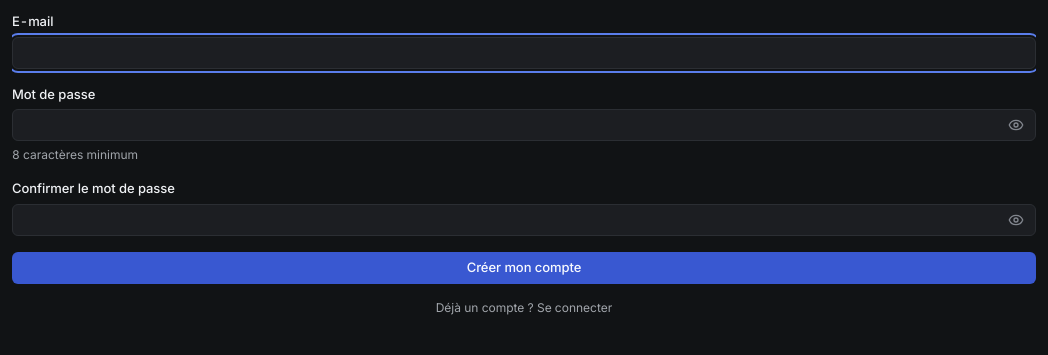
Test case: <SignupForm> › blocks submission when the passwords do not match
Type "new@example.com" into the field labelled "E-mail" at point(524, 53), box [12, 37, 1036, 69]
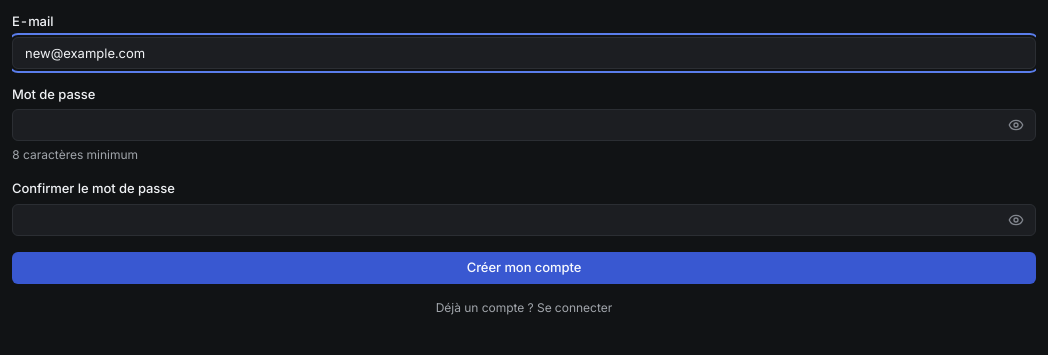
Type "hunter2secret" into the password field labelled "Mot de passe" at point(524, 125), box [12, 109, 1036, 141]
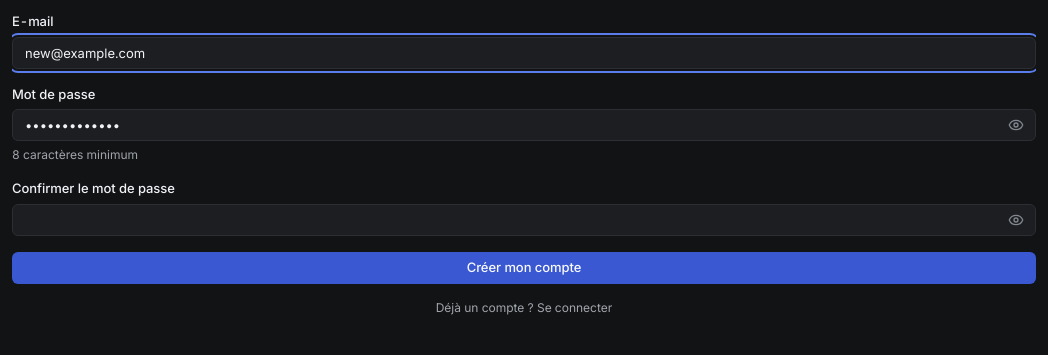
Type "different-one" into the password field labelled "Confirmer le mot de passe" at point(524, 220), box [12, 204, 1036, 236]
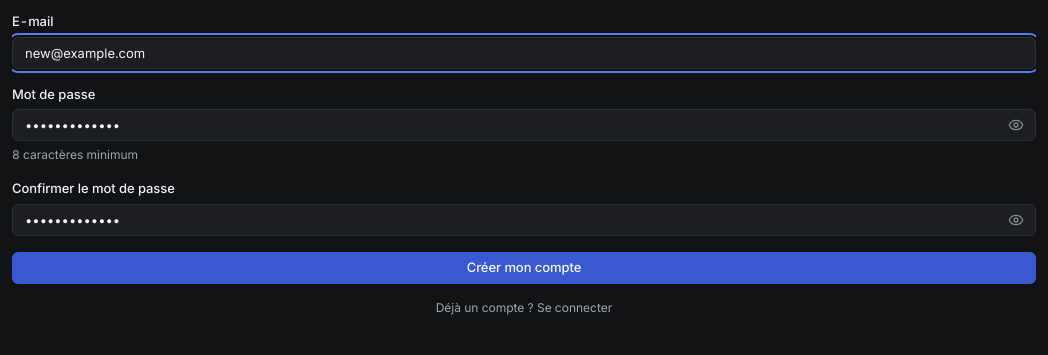
Click the button "Créer mon compte" at point(524, 268), box [12, 252, 1036, 284]
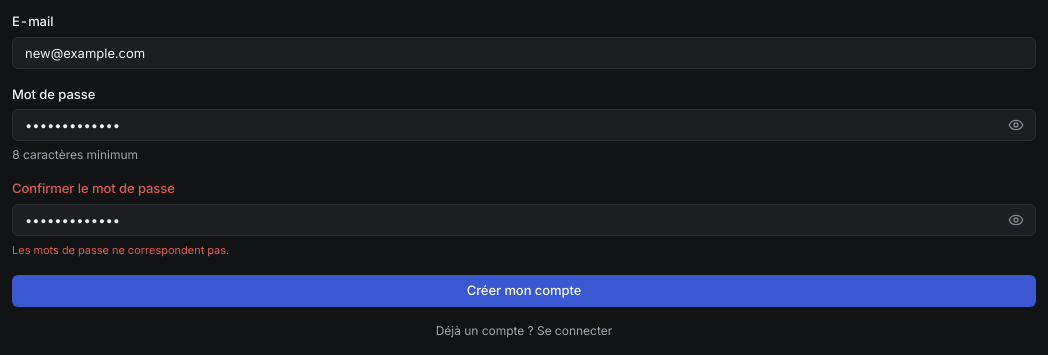
Now the text "Les mots de passe ne correspondent pas." is shown, box [12, 243, 229, 257]
